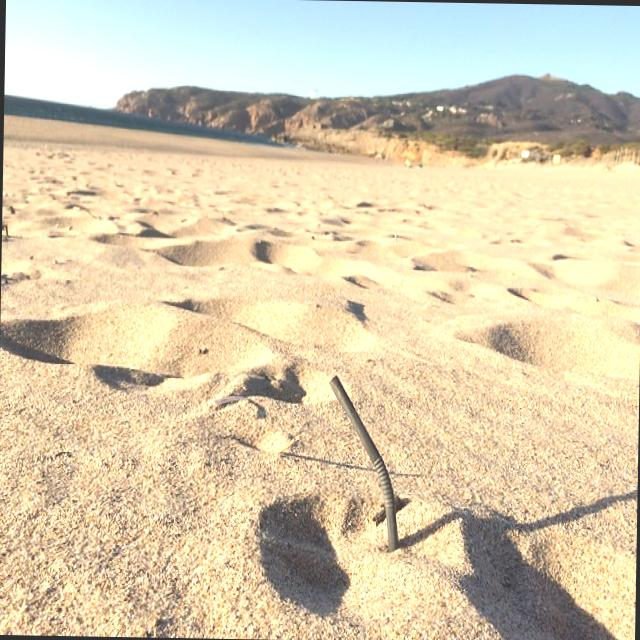Trash: (324, 371, 402, 555)
